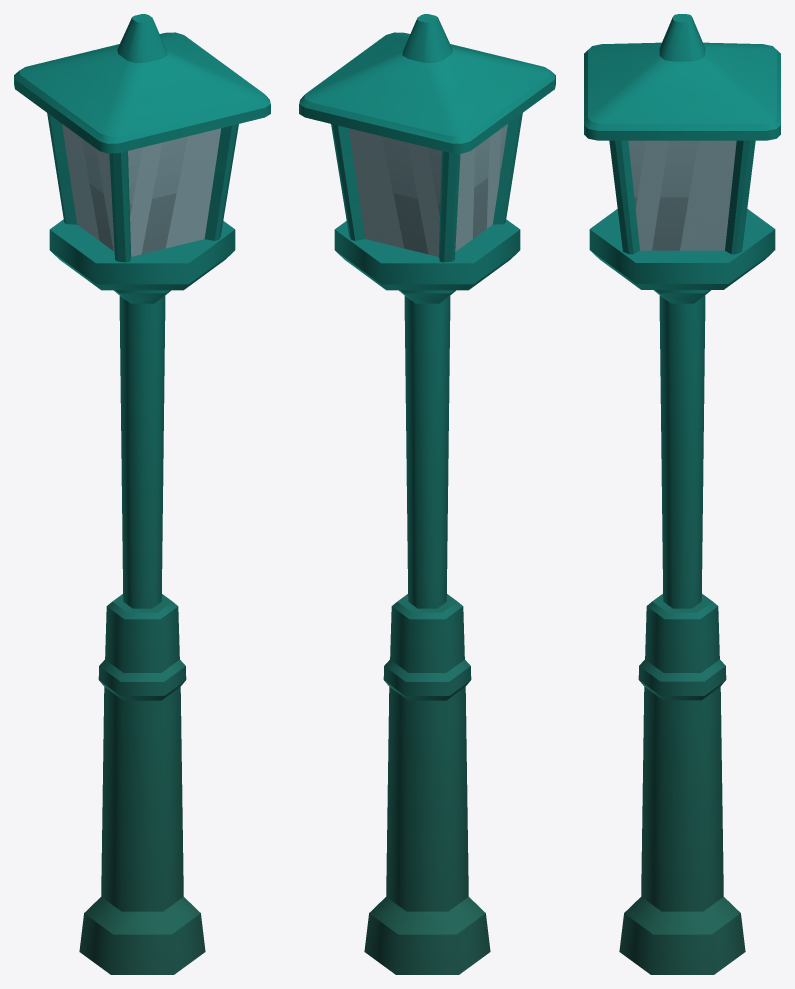
Rendered from StreetLamp_3_A.glb.
3 renders of one model, left to right at view 1: azimuth 30°, elevation 25°; view 2: azimuth 150°, elevation 25°; view 3: azimuth 270°, elevation 25°, orthographic.
Visible parts, largest first — view 1: StreetLamp_3_A; view 2: StreetLamp_3_A; view 3: StreetLamp_3_A.
Part boxes in pixels (x1,y1,x2,y2): StreetLamp_3_A: (14, 14, 270, 974); StreetLamp_3_A: (299, 14, 555, 974); StreetLamp_3_A: (584, 14, 780, 974).
Size of the model in its own units: 0.7408 by 3.88 by 0.7408.
2 materials, 2 textured.
